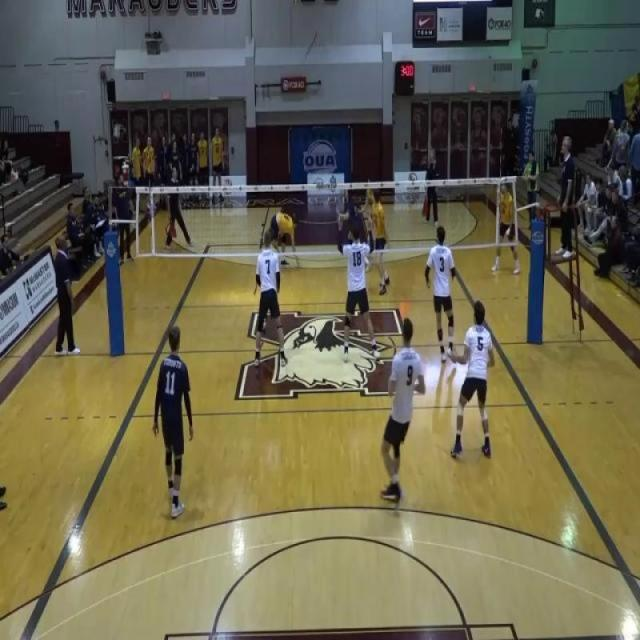volleyball: (291, 0, 299, 4)
